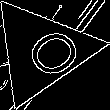O_SW: (5, 18, 78, 84)
